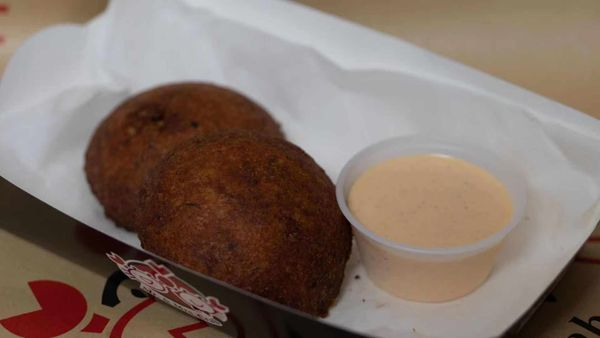sushi: (336, 134, 528, 303)
